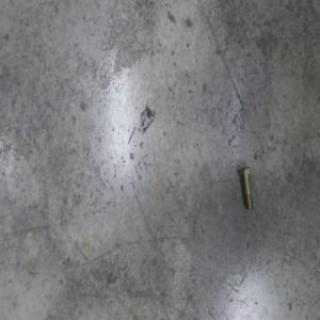Bolttrack_idkeyframe: (236, 163, 251, 210)
